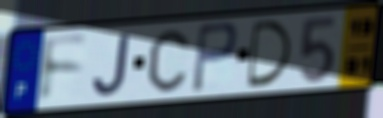5: (296, 14, 341, 85)
C: (146, 28, 191, 94)
D: (246, 19, 294, 90)
F: (39, 33, 90, 106)
J: (90, 32, 132, 99)
P: (189, 20, 240, 95)
